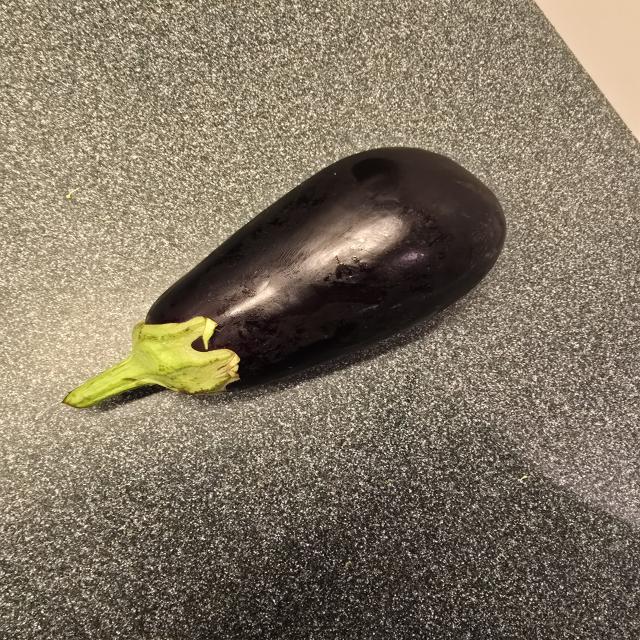Eggplant: (40, 135, 531, 424)
